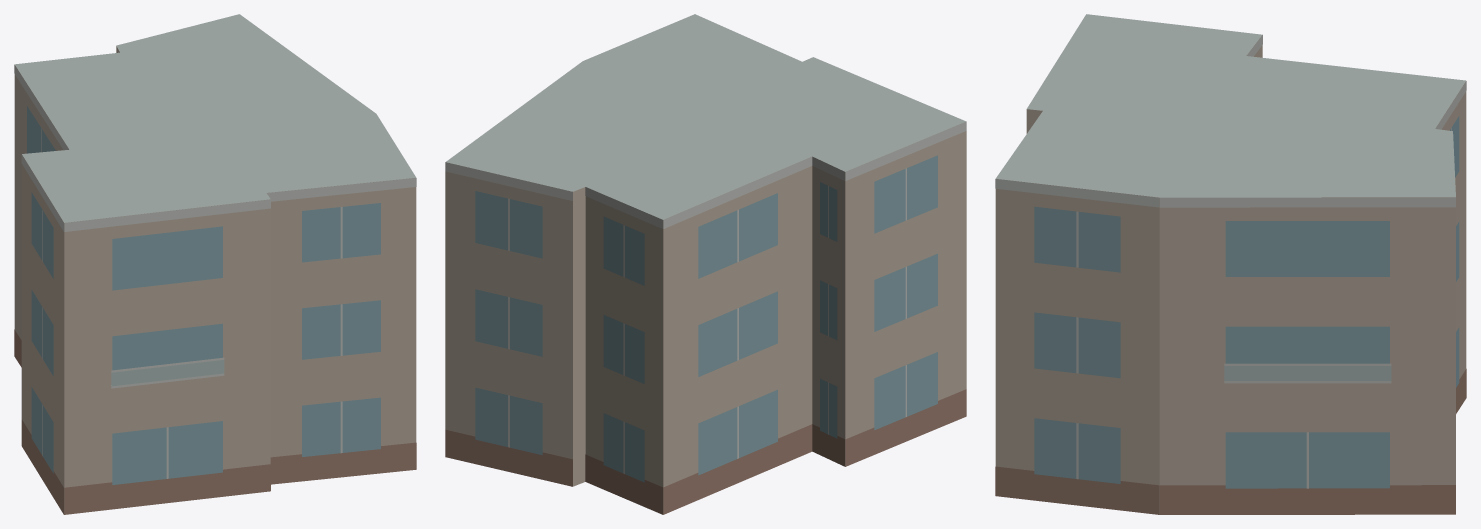
File: survey-upis-32941458.glb
3 renders of one model, left to right at view 1: azimuth 30°, elevation 25°; view 2: azimuth 150°, elevation 25°; view 3: azimuth 270°, elevation 25°, orthographic. The views are drawn at different scales.
Parts seen in each view (by area): view 1: survey-upis-32941458.tmp; view 2: survey-upis-32941458.tmp; view 3: survey-upis-32941458.tmp.
Boxes of the visible parts, <box> form: survey-upis-32941458.tmp: <box>14,14,416,514</box>; survey-upis-32941458.tmp: <box>445,14,966,514</box>; survey-upis-32941458.tmp: <box>995,14,1466,514</box>.
Size of the model in its own units: 9.66 by 7.75 by 10.44.
